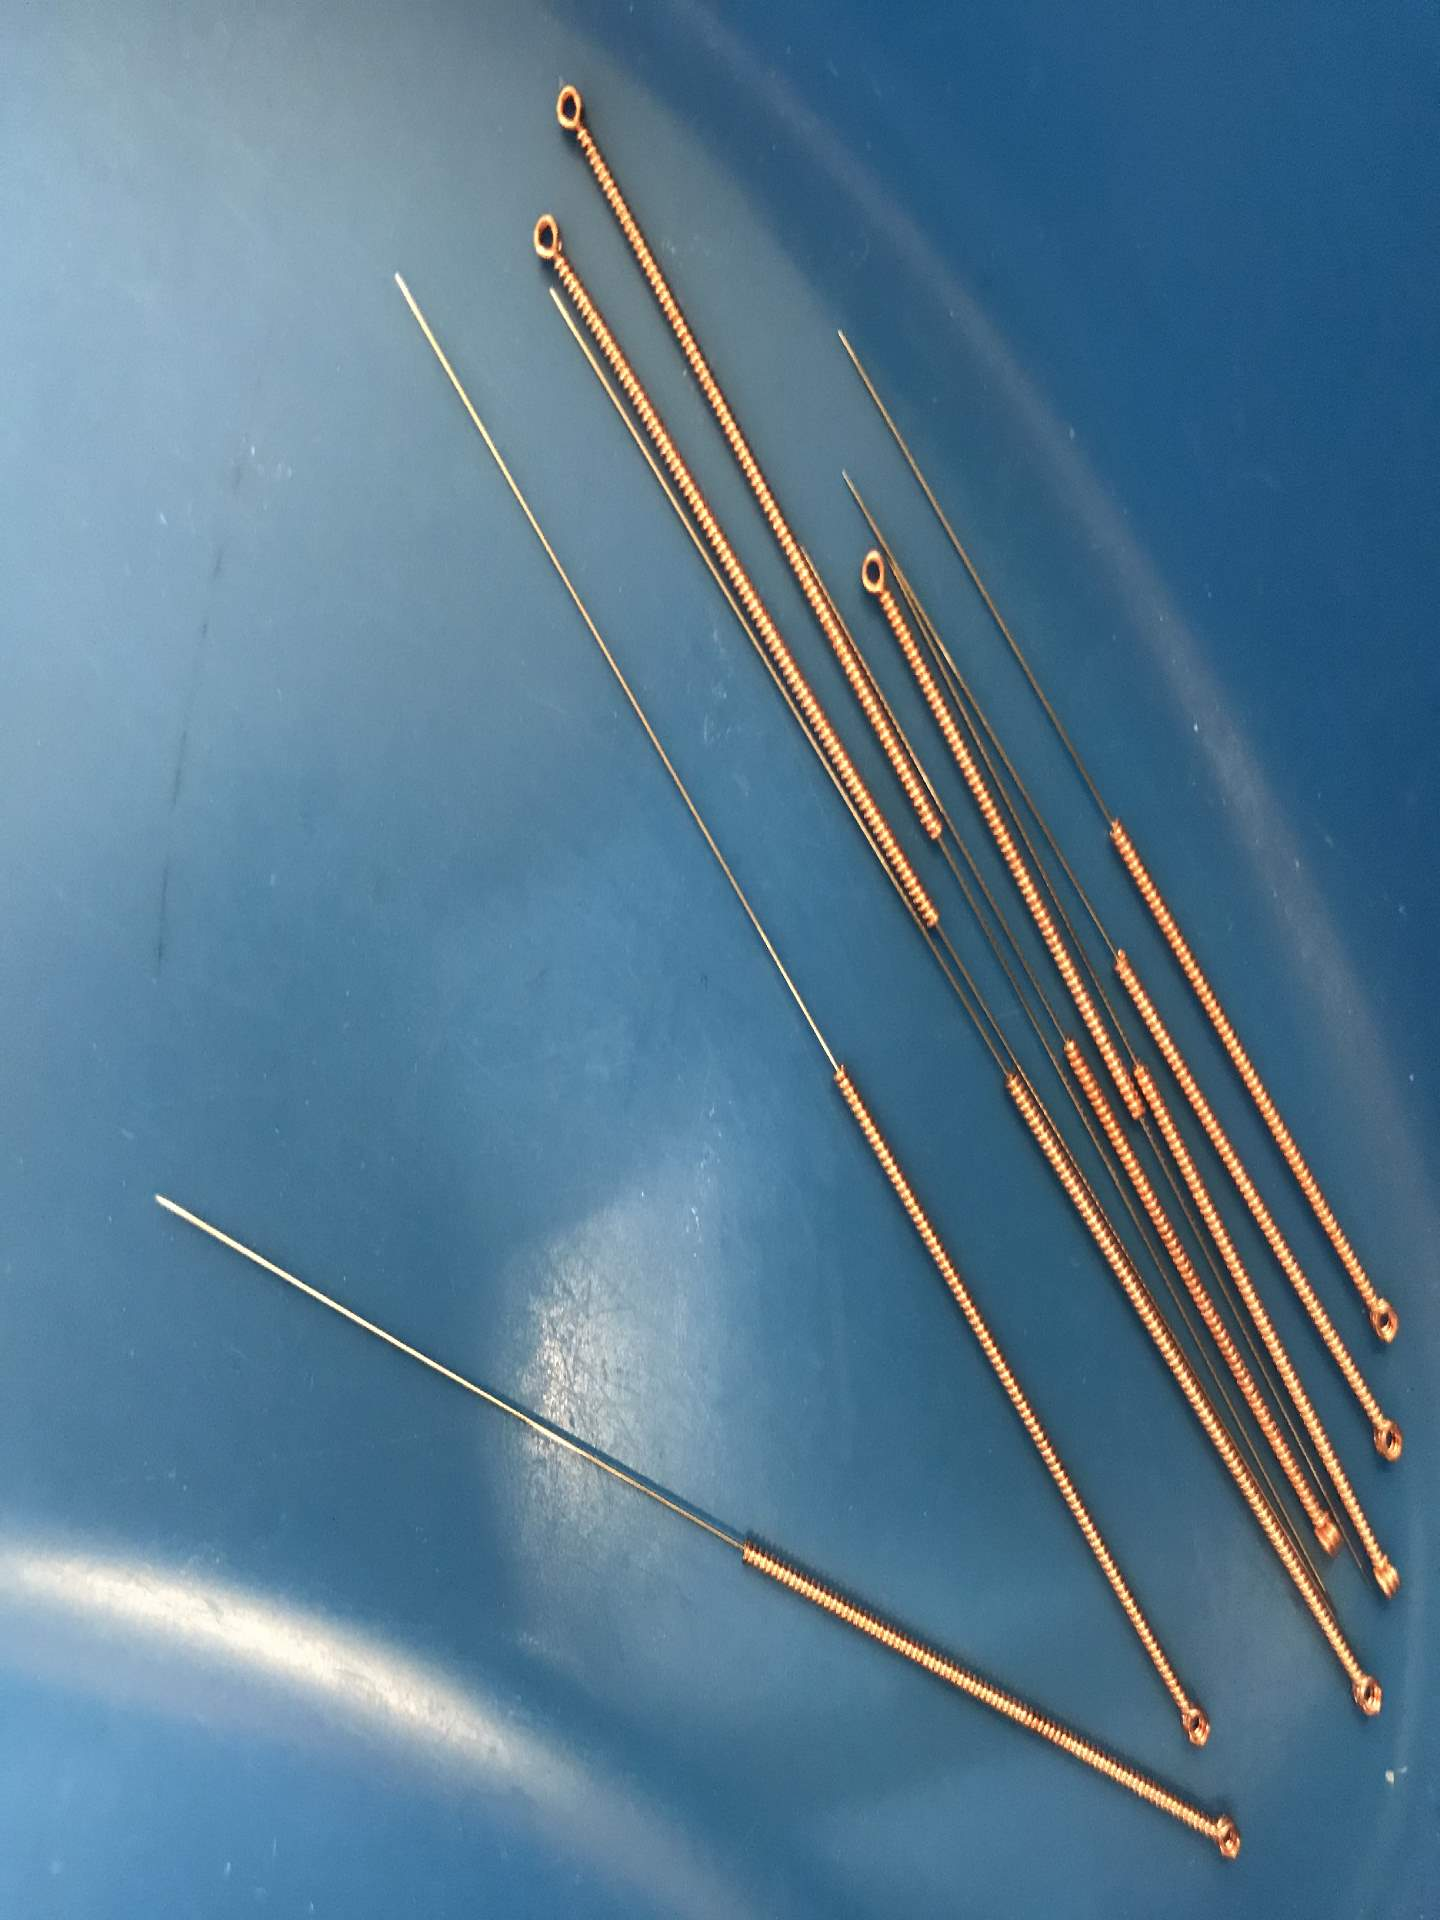needle: (532, 65, 604, 163), (510, 192, 578, 290), (1349, 1398, 1416, 1479), (1333, 1649, 1396, 1733), (1348, 1271, 1411, 1355), (1351, 1534, 1414, 1612), (847, 534, 902, 621), (1190, 1804, 1252, 1876), (1168, 1689, 1224, 1763), (1298, 1500, 1348, 1565)
